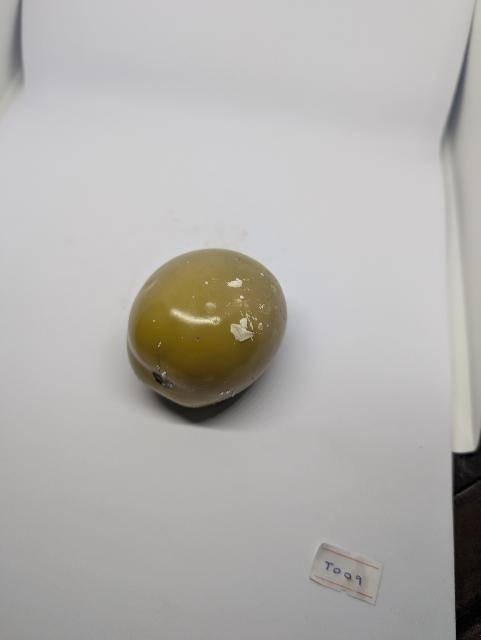defect: (124, 243, 290, 413)
